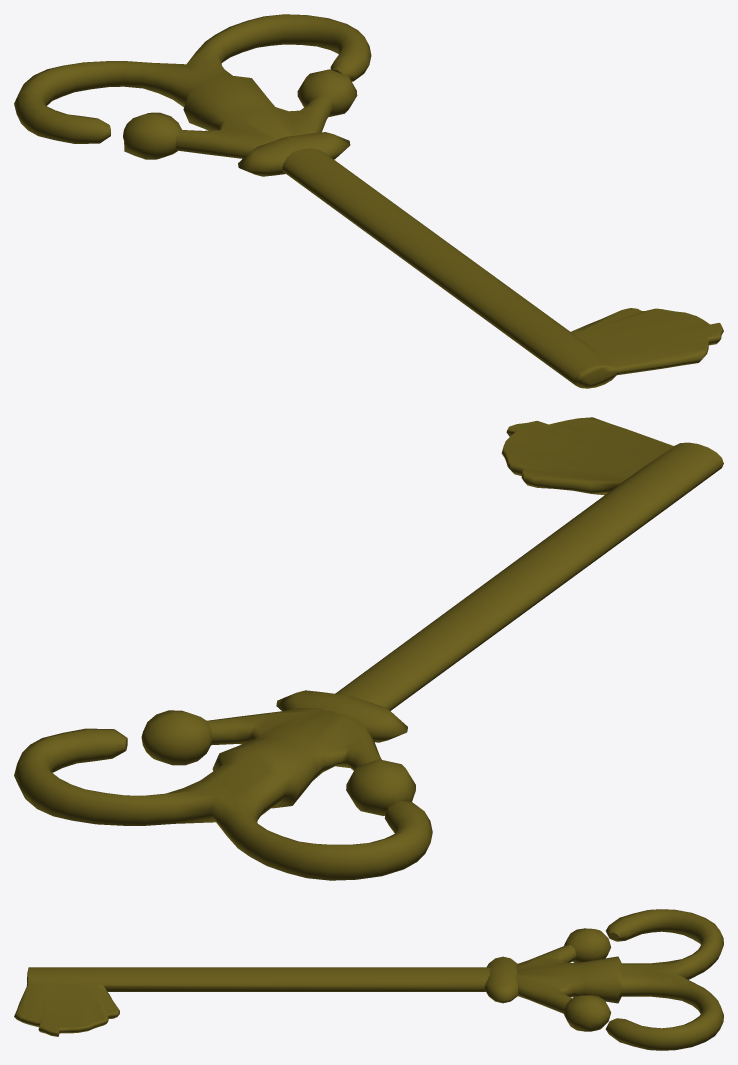
File: BgMD_key.fbx
3 views of the same model, one above another, from view 1: azimuth 30°, elevation 25°; view 2: azimuth 150°, elevation 25°; view 3: azimuth 270°, elevation 25° (orthographic). The views are drawn at different scales.
Visible parts, largest first — view 1: Bg_Key2; view 2: Bg_Key2; view 3: Bg_Key2.
Boxes of the visible parts, bbox=[...] form: Bg_Key2: bbox=[14, 14, 723, 388]; Bg_Key2: bbox=[14, 417, 723, 880]; Bg_Key2: bbox=[14, 909, 723, 1050].
Bounding box in the file's own units: 7.74 × 1.03 × 17.97.
